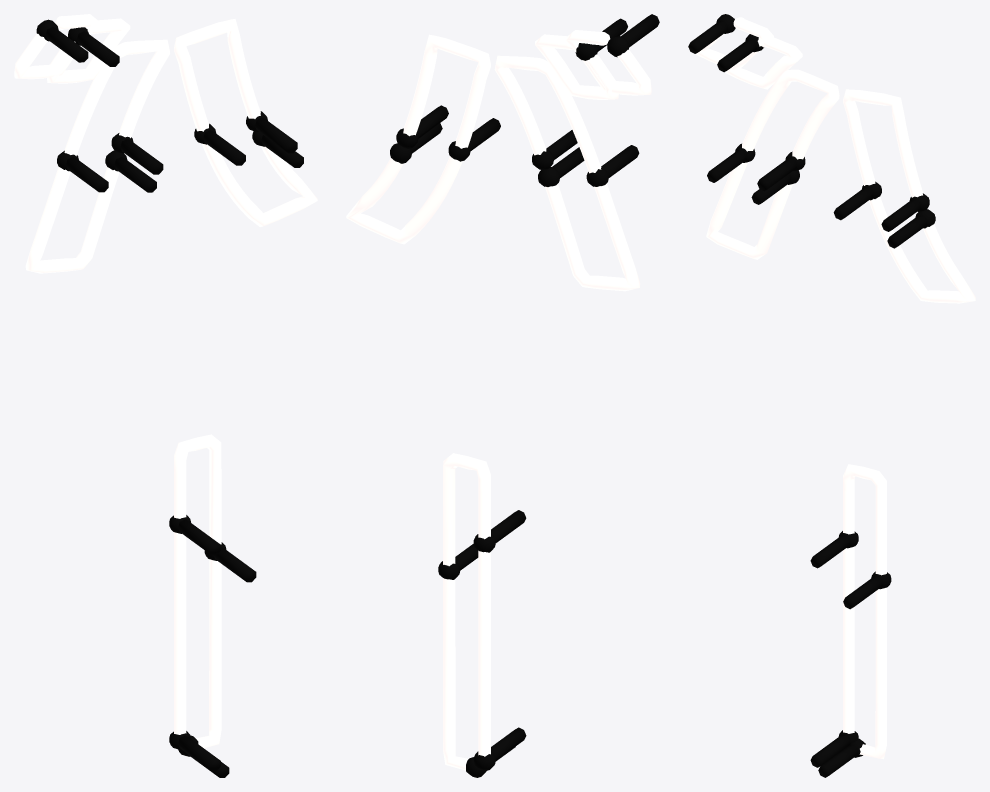
The model's file is neon_ba-.fbx.
3 views of the same model, side by side, from view 1: azimuth 30°, elevation 25°; view 2: azimuth 150°, elevation 25°; view 3: azimuth 330°, elevation 25° (orthographic). The views are drawn at different scales.
Visible parts, largest first — view 1: NeonEnglish; view 2: NeonEnglish; view 3: NeonEnglish.
Part boxes in pixels (x1,y1,x2,y2): NeonEnglish: [14, 14, 317, 777]; NeonEnglish: [346, 14, 659, 777]; NeonEnglish: [688, 14, 975, 777].
Bounding box in the file's own units: 93.05 × 226 × 21.29.
